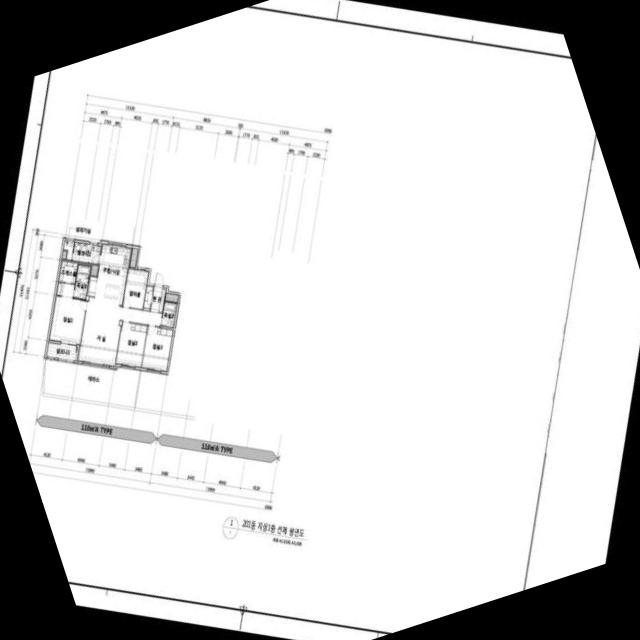background: (0, 0, 640, 640)
space_balconi: (72, 242, 101, 264), (47, 343, 78, 361)
space_bedroom: (49, 296, 87, 345), (142, 326, 173, 372), (116, 322, 147, 368)
space_dressroom: (56, 260, 78, 298)
space_front: (143, 285, 166, 314)
space_kitchen: (87, 243, 132, 307)
space_living_room: (77, 302, 162, 367)
space_other: (123, 268, 149, 309), (130, 248, 138, 268), (165, 294, 179, 302), (91, 265, 99, 276), (62, 251, 67, 259)
space_outdoor_room: (63, 241, 74, 260)
space_toilet: (74, 265, 91, 299), (161, 302, 177, 328)
